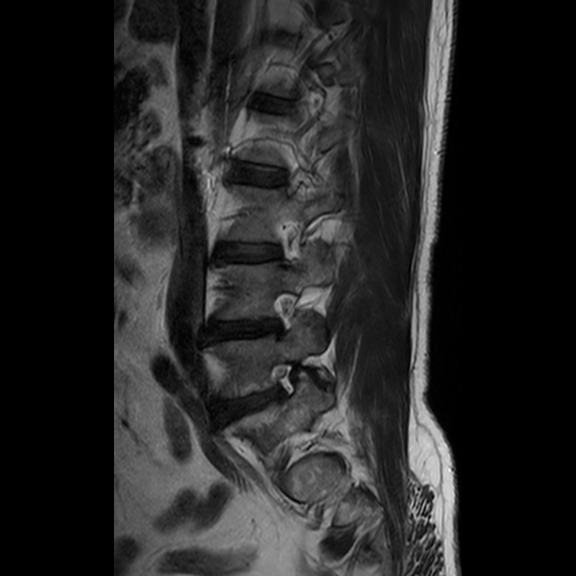RFS0: (263, 282, 310, 343)
RFS1: (262, 350, 307, 407)
